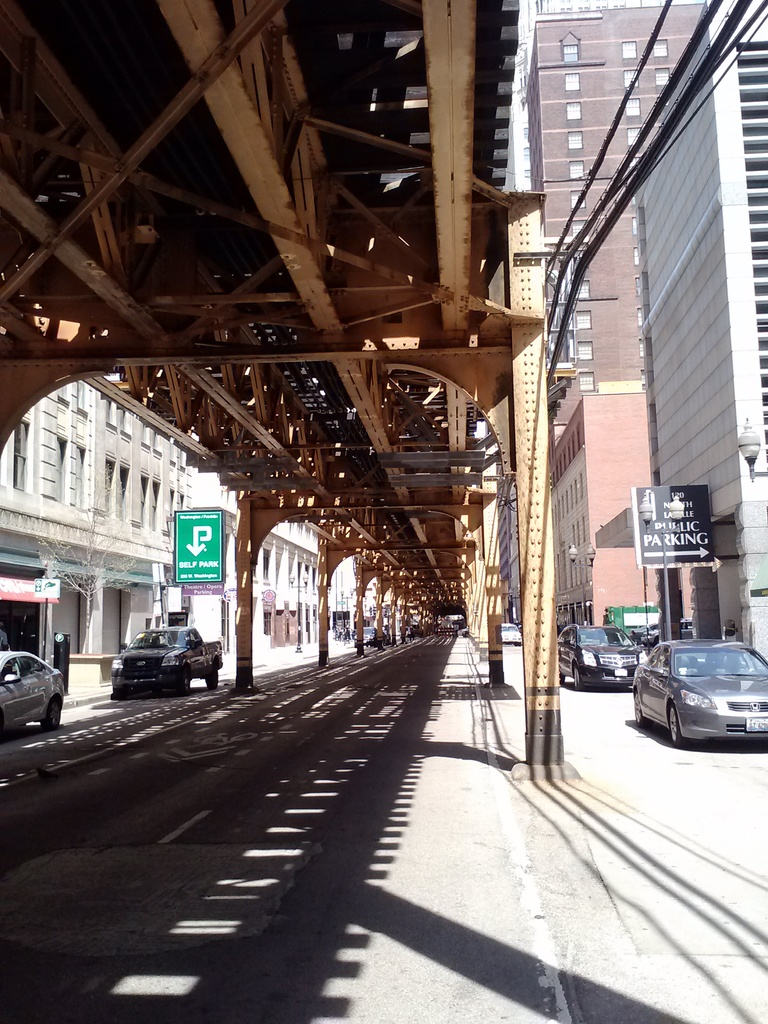Car: (628, 637, 767, 749), (106, 623, 220, 696), (556, 623, 645, 693), (0, 644, 61, 740), (504, 621, 523, 645), (360, 626, 379, 644)
